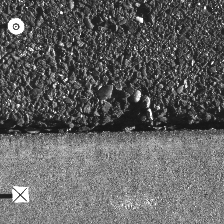circle: (8, 17, 24, 33)
crack: (1, 118, 223, 137)
square: (12, 186, 29, 203)
